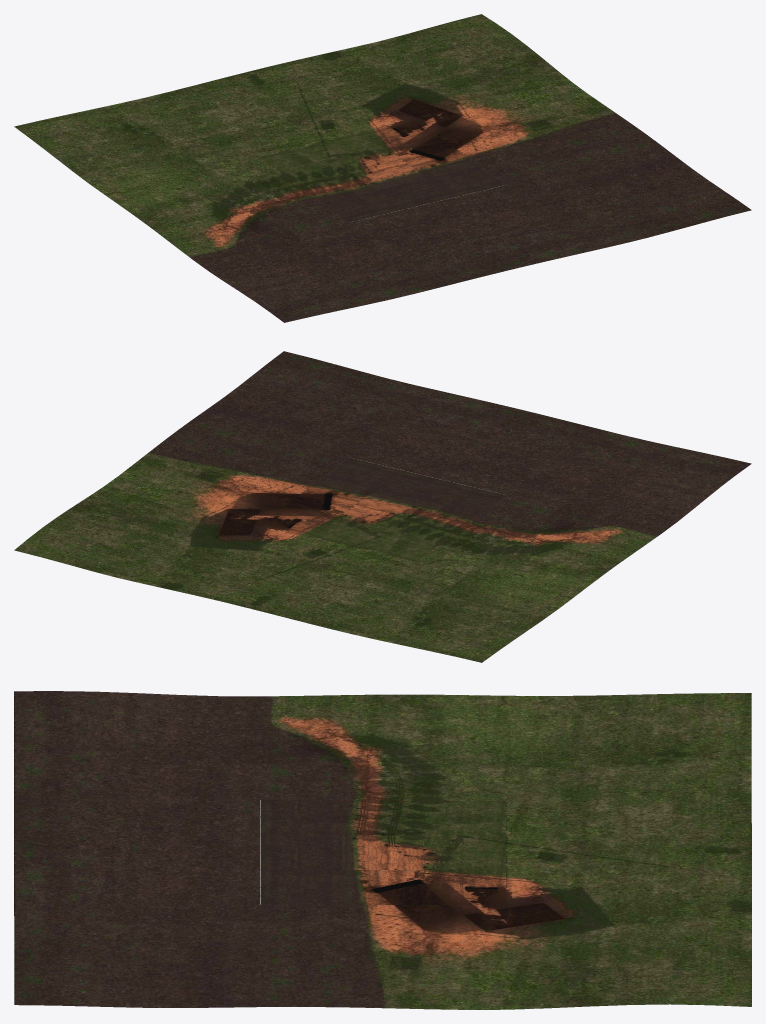
The model's file is Solo.glb.
The picture shows the model from 3 angles, top to bottom: view 1: azimuth 30°, elevation 25°; view 2: azimuth 150°, elevation 25°; view 3: azimuth 270°, elevation 25°; orthographic projection. The views are drawn at different scales.
Parts seen in each view (by area): view 1: Solo; view 2: Solo; view 3: Solo.
Boxes of the visible parts, x1,y1,x2,y2 form: Solo: (14,14,751,322); Solo: (14,351,751,662); Solo: (14,691,751,1009).
Bounding box in the file's own units: 126 × 1.4 × 126.
Materials: 1 (1 with a texture image).
